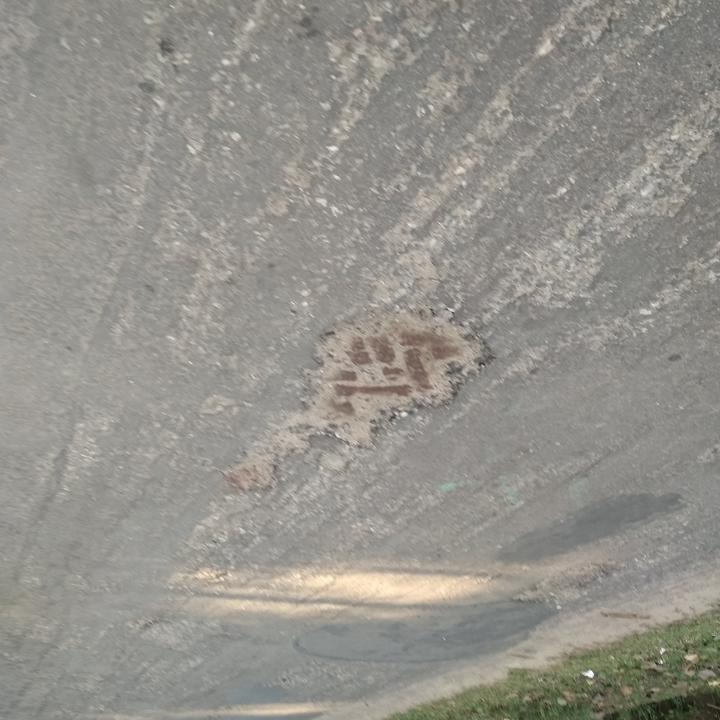pothole: (292, 298, 505, 452), (508, 561, 617, 609), (223, 445, 280, 496)
